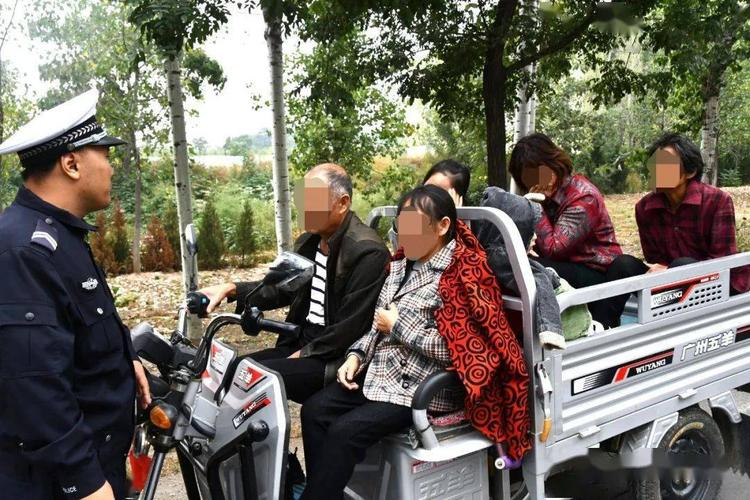driver: (265, 167, 373, 381)
overloading: (147, 152, 750, 499)
passenger: (336, 193, 495, 500), (498, 138, 635, 321), (643, 135, 742, 288), (414, 162, 490, 212)
